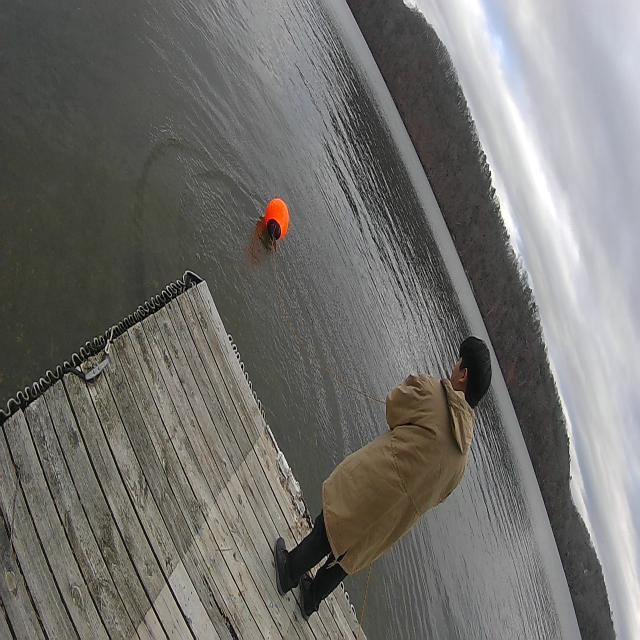Buoy: (259, 186, 293, 257)
